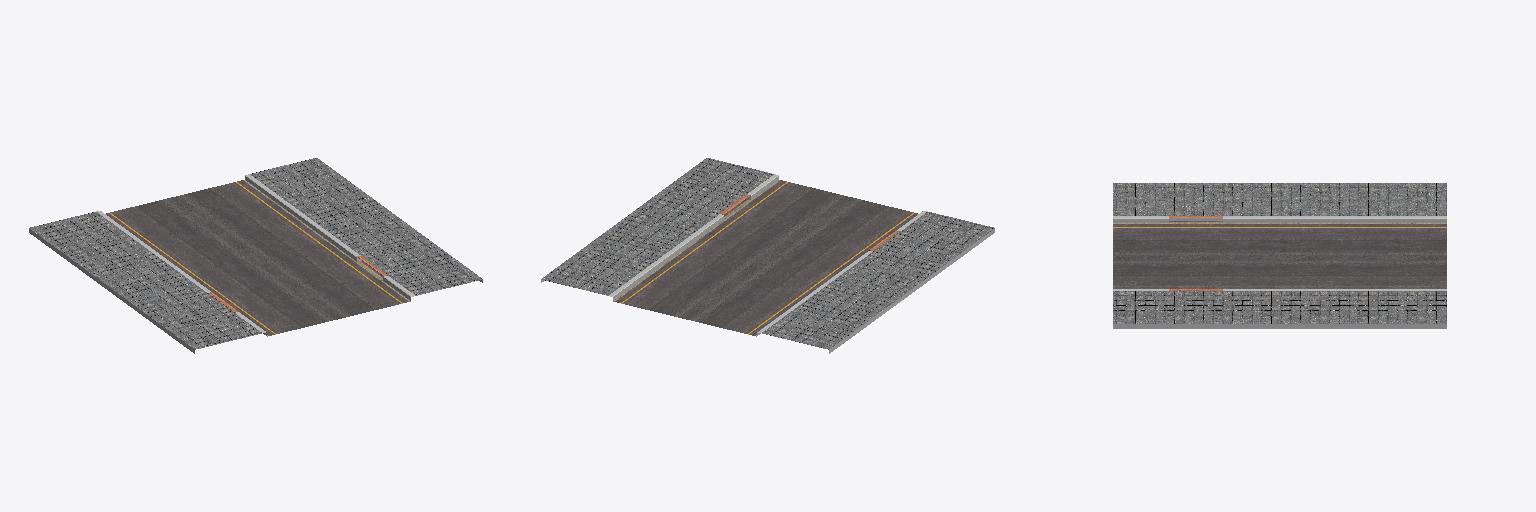
3 views of the same model, side by side, from view 1: azimuth 30°, elevation 25°; view 2: azimuth 150°, elevation 25°; view 3: azimuth 270°, elevation 25° (orthographic).
Visible parts, largest first — view 1: Plane.013; view 2: Plane.013; view 3: Plane.013.
Part boxes in pixels (bbox=[...]): Plane.013: bbox=[29, 158, 482, 353]; Plane.013: bbox=[541, 158, 994, 353]; Plane.013: bbox=[1113, 183, 1446, 328].
Size of the model in its own units: 24 by 0.428 by 24.
Materials: 7 (3 with a texture image).